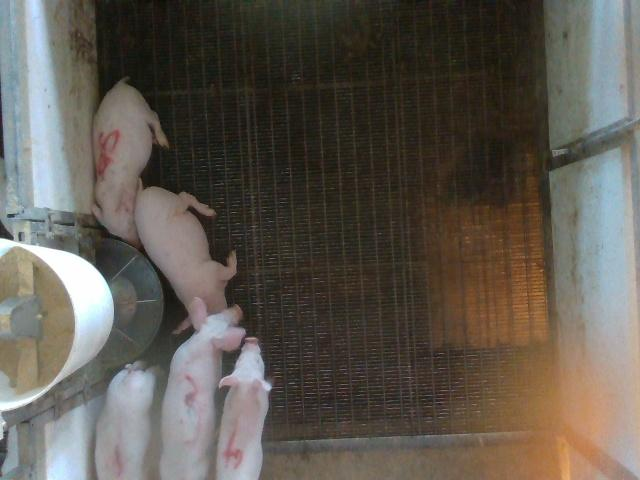pig-1: (95, 361, 155, 479)
pig-3: (160, 298, 245, 479)
pig-4: (216, 338, 271, 479)
pig-5: (92, 79, 169, 246)
